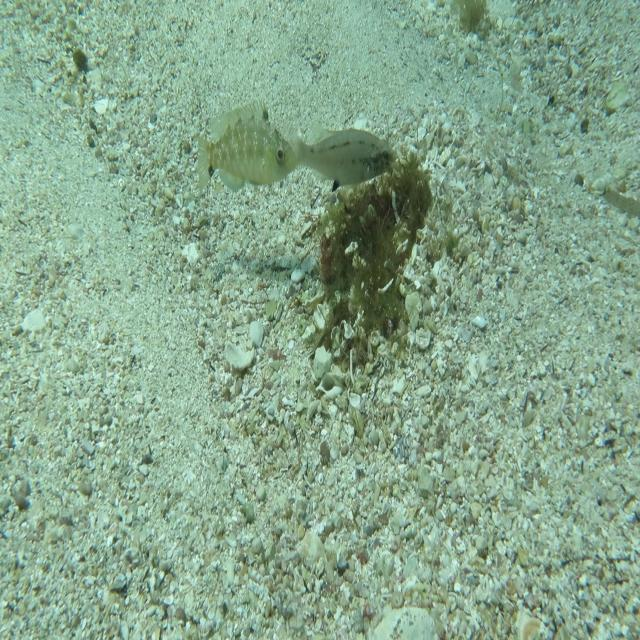GB: (196, 98, 298, 195)
core_nest: (365, 188, 411, 234)
female: (286, 113, 398, 194)
nest: (303, 151, 434, 358)
